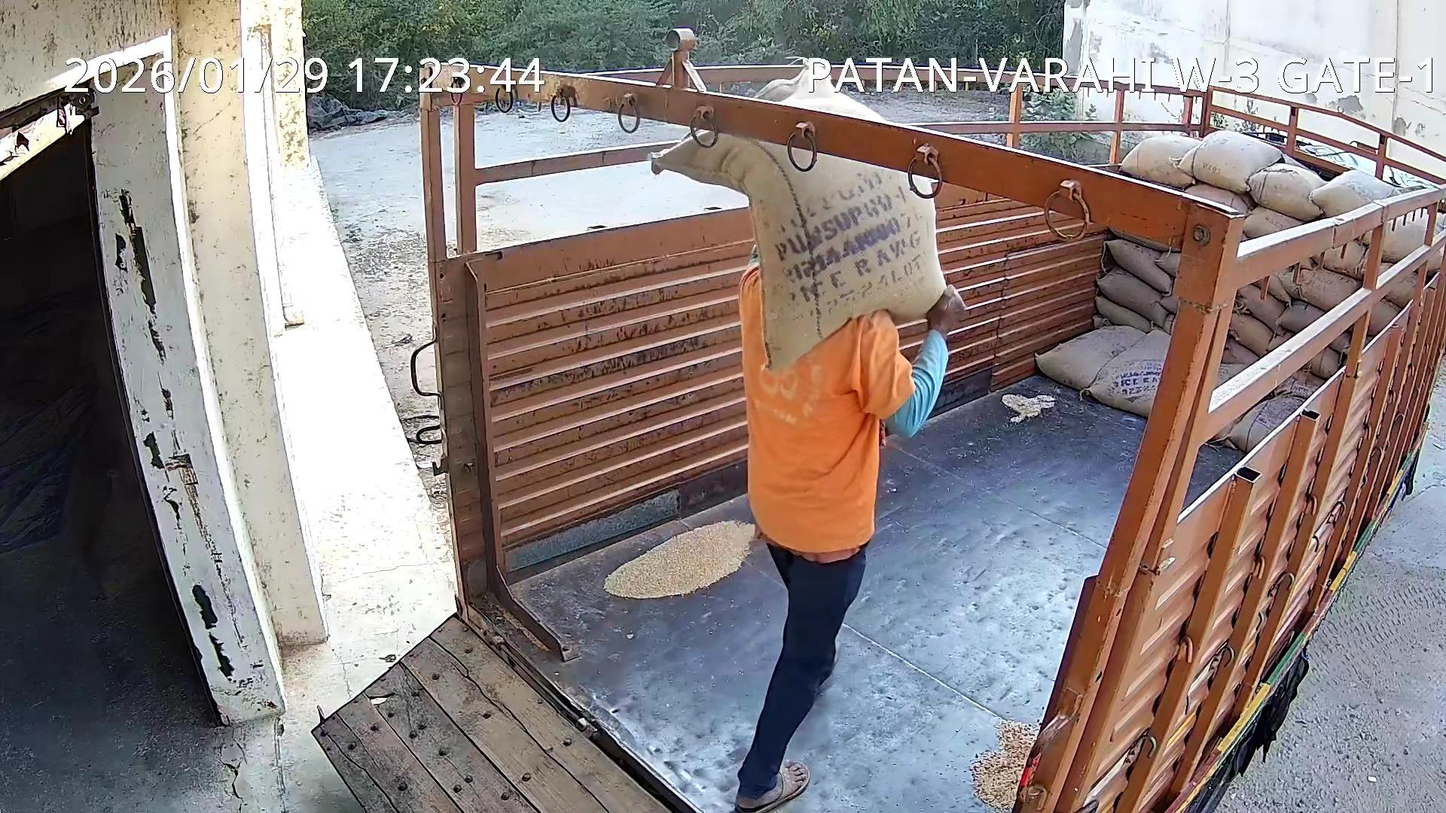Sack: (652, 120, 944, 367), (759, 71, 886, 122)
